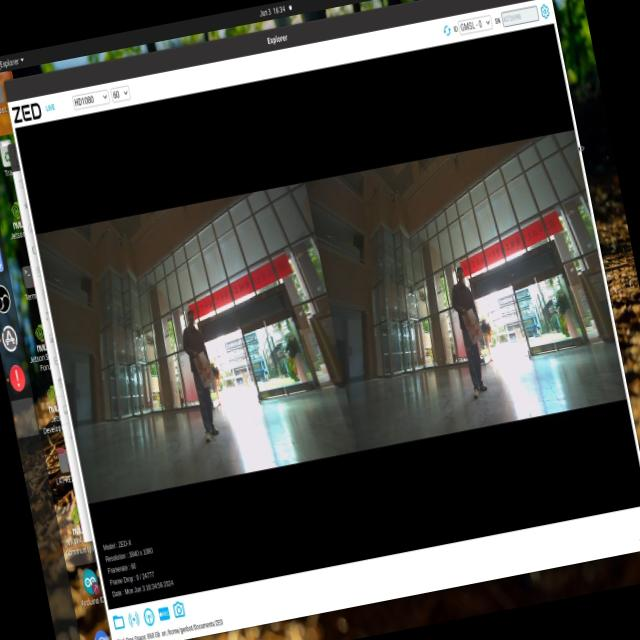red: (462, 308, 488, 354), (192, 349, 216, 387)
